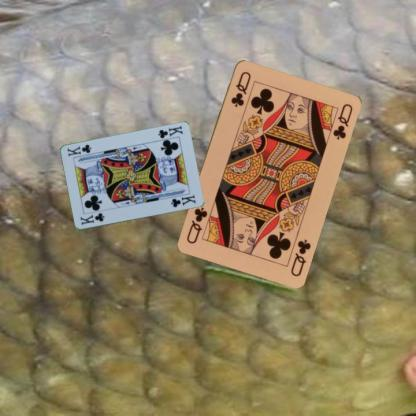Kc: (77, 210, 106, 226), (155, 124, 184, 140)
Qc: (288, 236, 312, 278), (228, 68, 252, 108)
